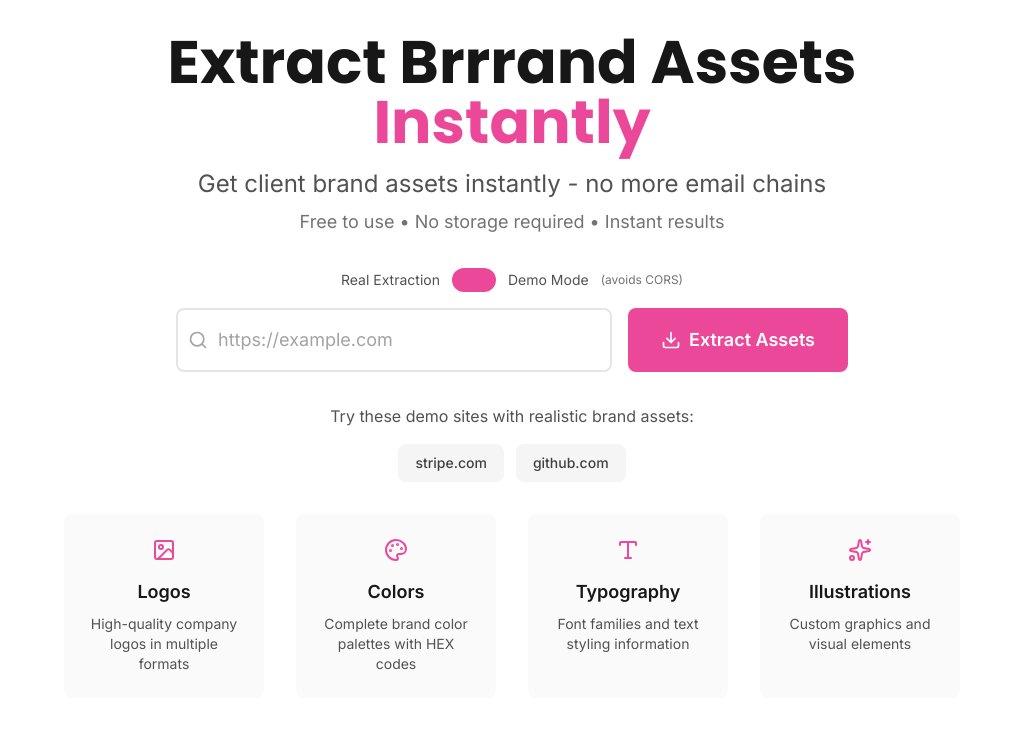
LandingPage › should display error message when asset extraction fails
The width and height of the screenshot is (1024, 747).
Note: Enter URL and submit
Type "https://unreachable.com" into the field named "website url" at (394, 340), box [176,308,612,372]
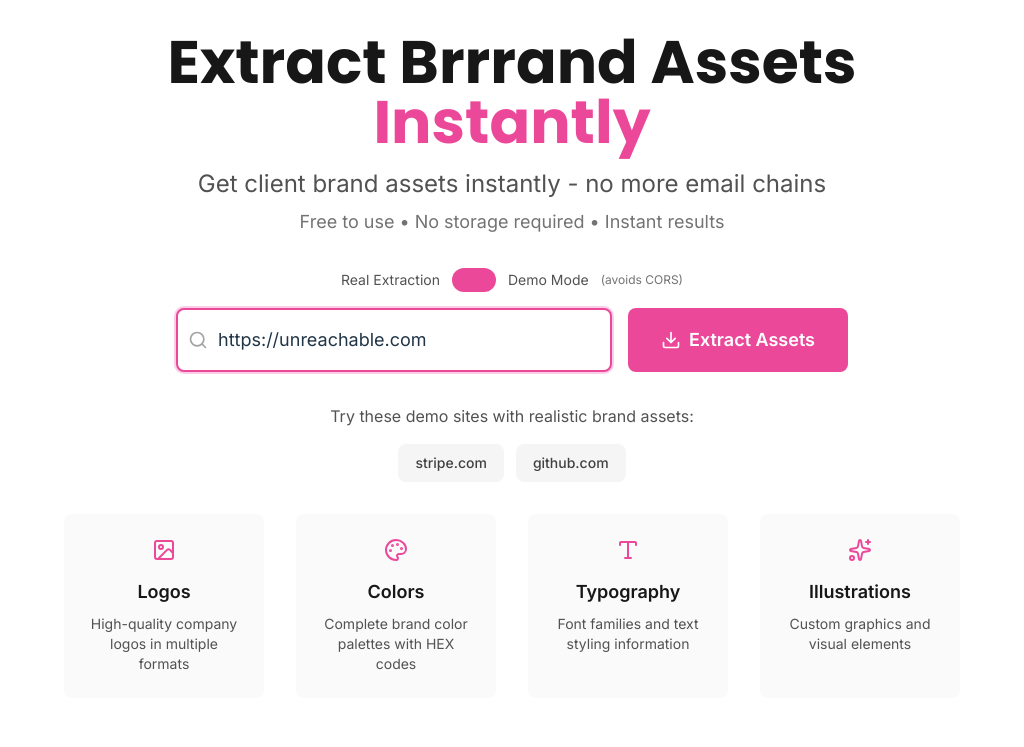
Click the button "Extract Assets" at (738, 340), box [628,308,848,372]
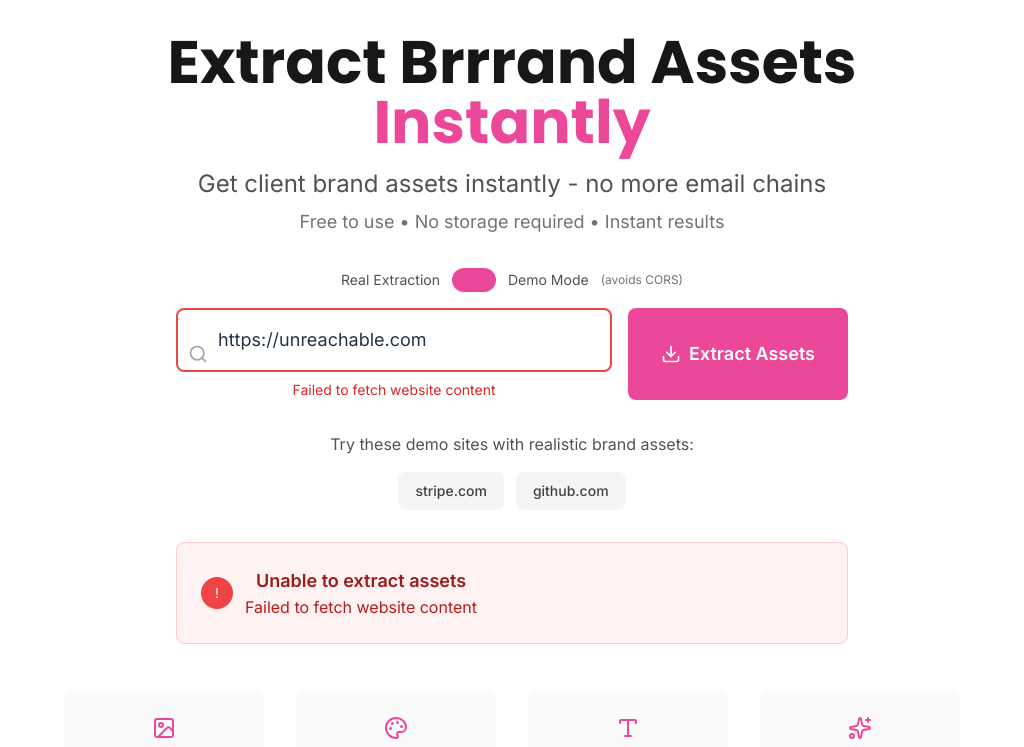
Now the heading "Unable to extract assets" is shown, box [245,567,477,595]
Now the text "Failed to fetch website content" is shown 2 times, box [292,381,496,398]; [245,595,477,619]
